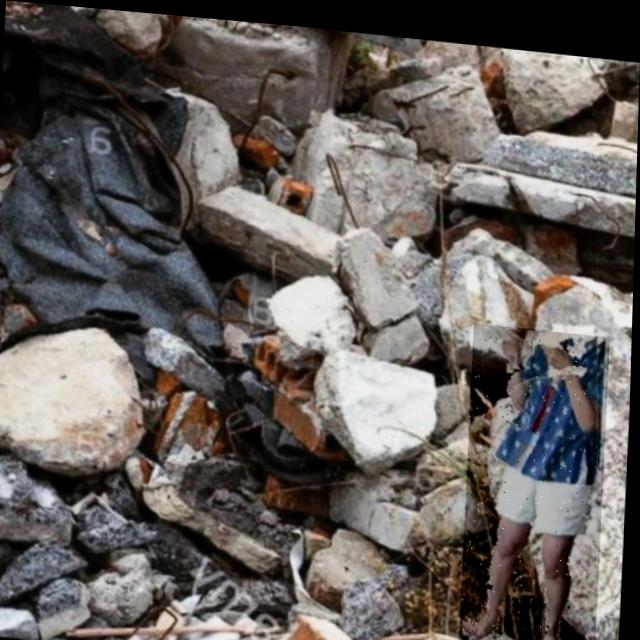Person in Rubble: (462, 313, 611, 640)
